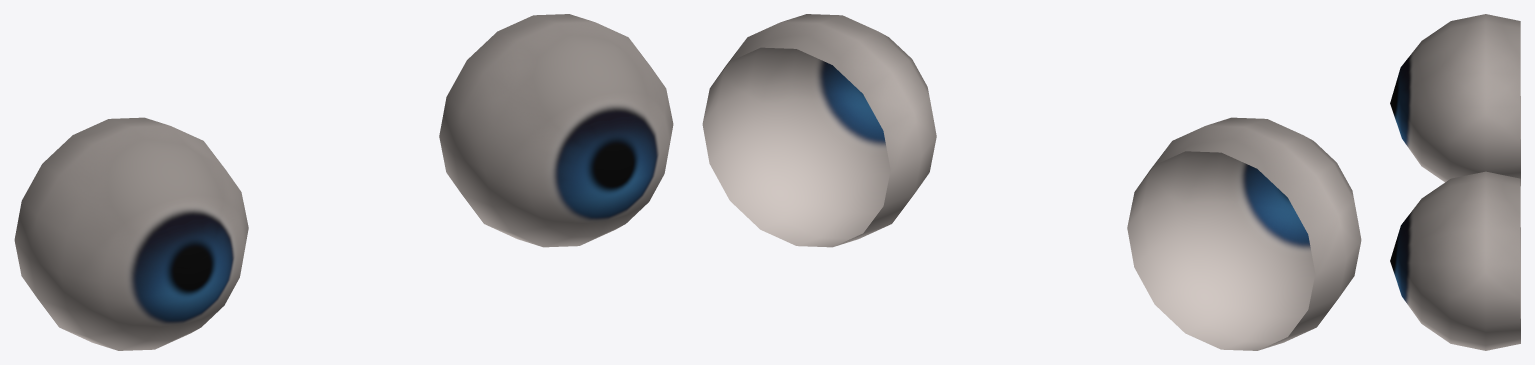
File: eyes_1.fbx
The picture shows the model from 3 angles, left to right: view 1: azimuth 30°, elevation 25°; view 2: azimuth 150°, elevation 25°; view 3: azimuth 270°, elevation 25°; orthographic projection. The views are drawn at different scales.
Visible parts, largest first — view 1: eyes_low; view 2: eyes_low; view 3: eyes_low.
Part boxes in pixels (x1,y1,x2,y2): eyes_low: (14, 14, 673, 350); eyes_low: (702, 14, 1361, 350); eyes_low: (1390, 14, 1520, 350).
Bounding box in the file's own units: 32.82 × 10.68 × 7.78.
1 material, 1 textured.
